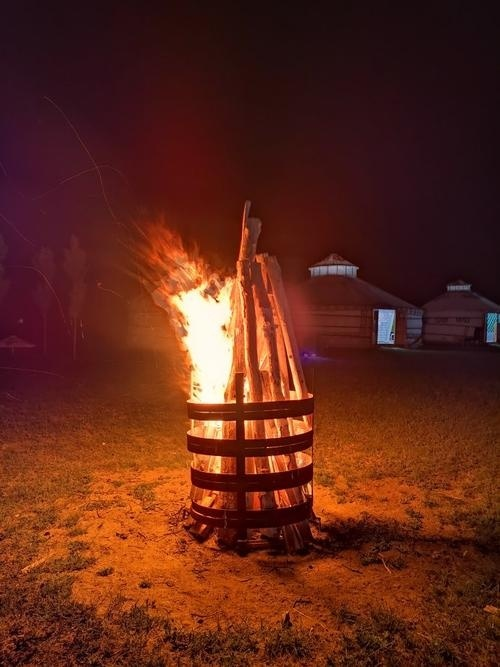fire: (167, 260, 244, 403)
